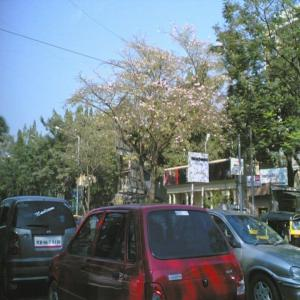Vehicle-registration-plate: (36, 236, 62, 252)
